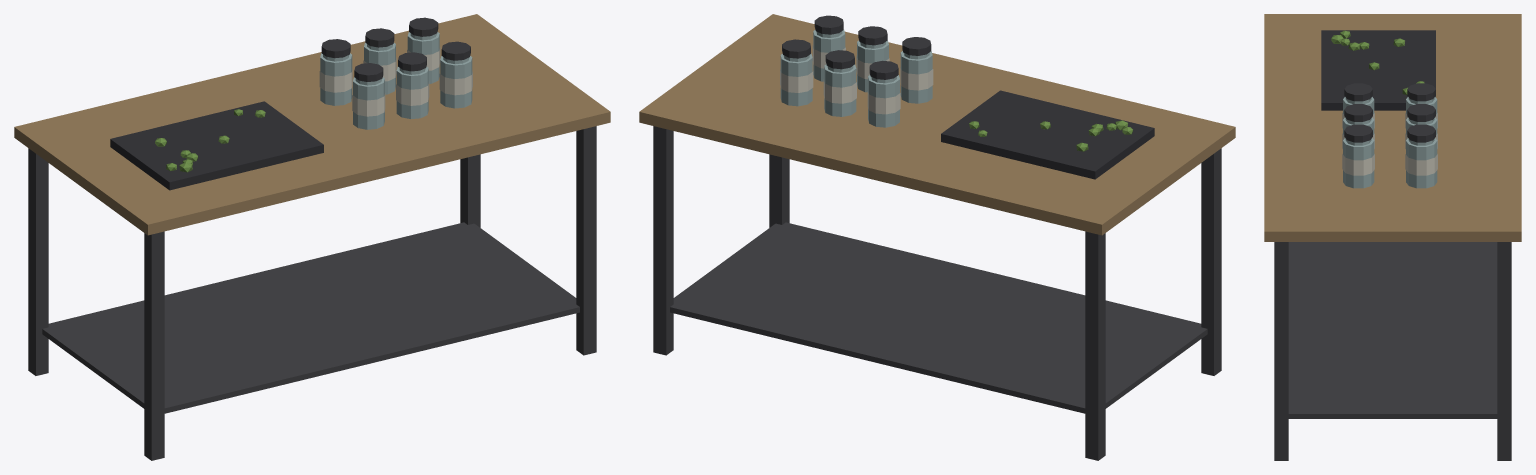
File: Weed_TrimTable.glb
The picture shows the model from 3 angles, left to right: view 1: azimuth 30°, elevation 25°; view 2: azimuth 150°, elevation 25°; view 3: azimuth 270°, elevation 25°; orthographic projection. The views are drawn at different scales.
Parts seen in each view (by area): view 1: Weed_TrimTable; view 2: Weed_TrimTable; view 3: Weed_TrimTable.
Part boxes in pixels (box(x1,y1,x2,y2)): Weed_TrimTable: box(14, 14, 610, 460); Weed_TrimTable: box(639, 14, 1235, 460); Weed_TrimTable: box(1264, 14, 1521, 460).
Size of what is drawn, in the model's own units: 1.8 by 1.1 by 0.9.
